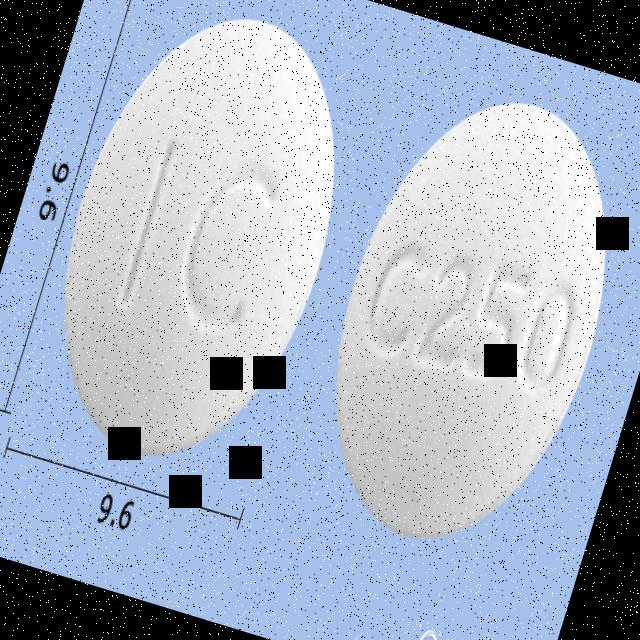Ciroctan - 500mg: (11, 0, 390, 494), (283, 64, 640, 579)
